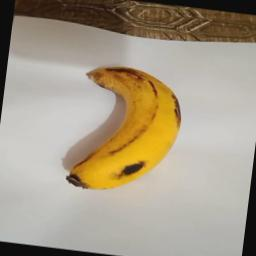Banana Unripe: (60, 58, 189, 196)
